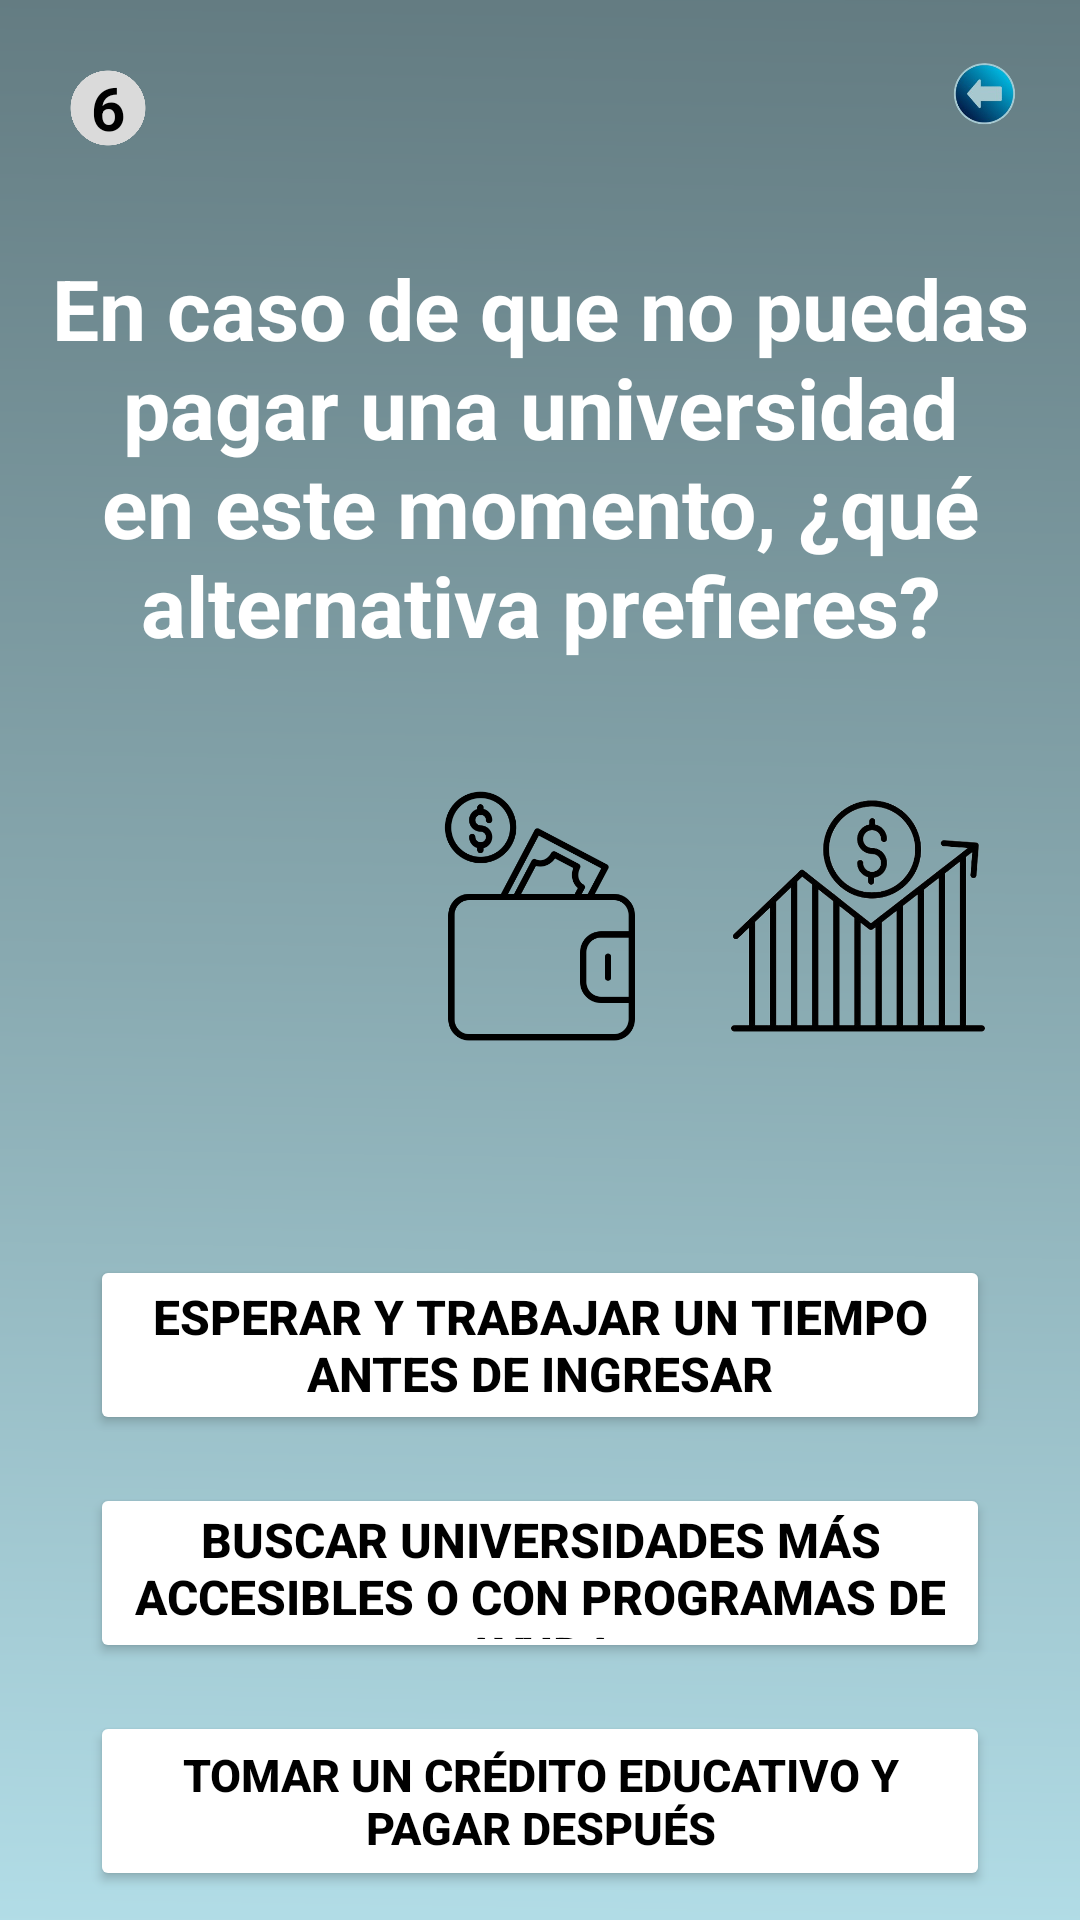

Screen size 1080*1920. Icon name, then its center in pixels as point (x, y):
cartera: point (539, 916)
crecimiento: point (858, 916)
retroceso: point (984, 93)
